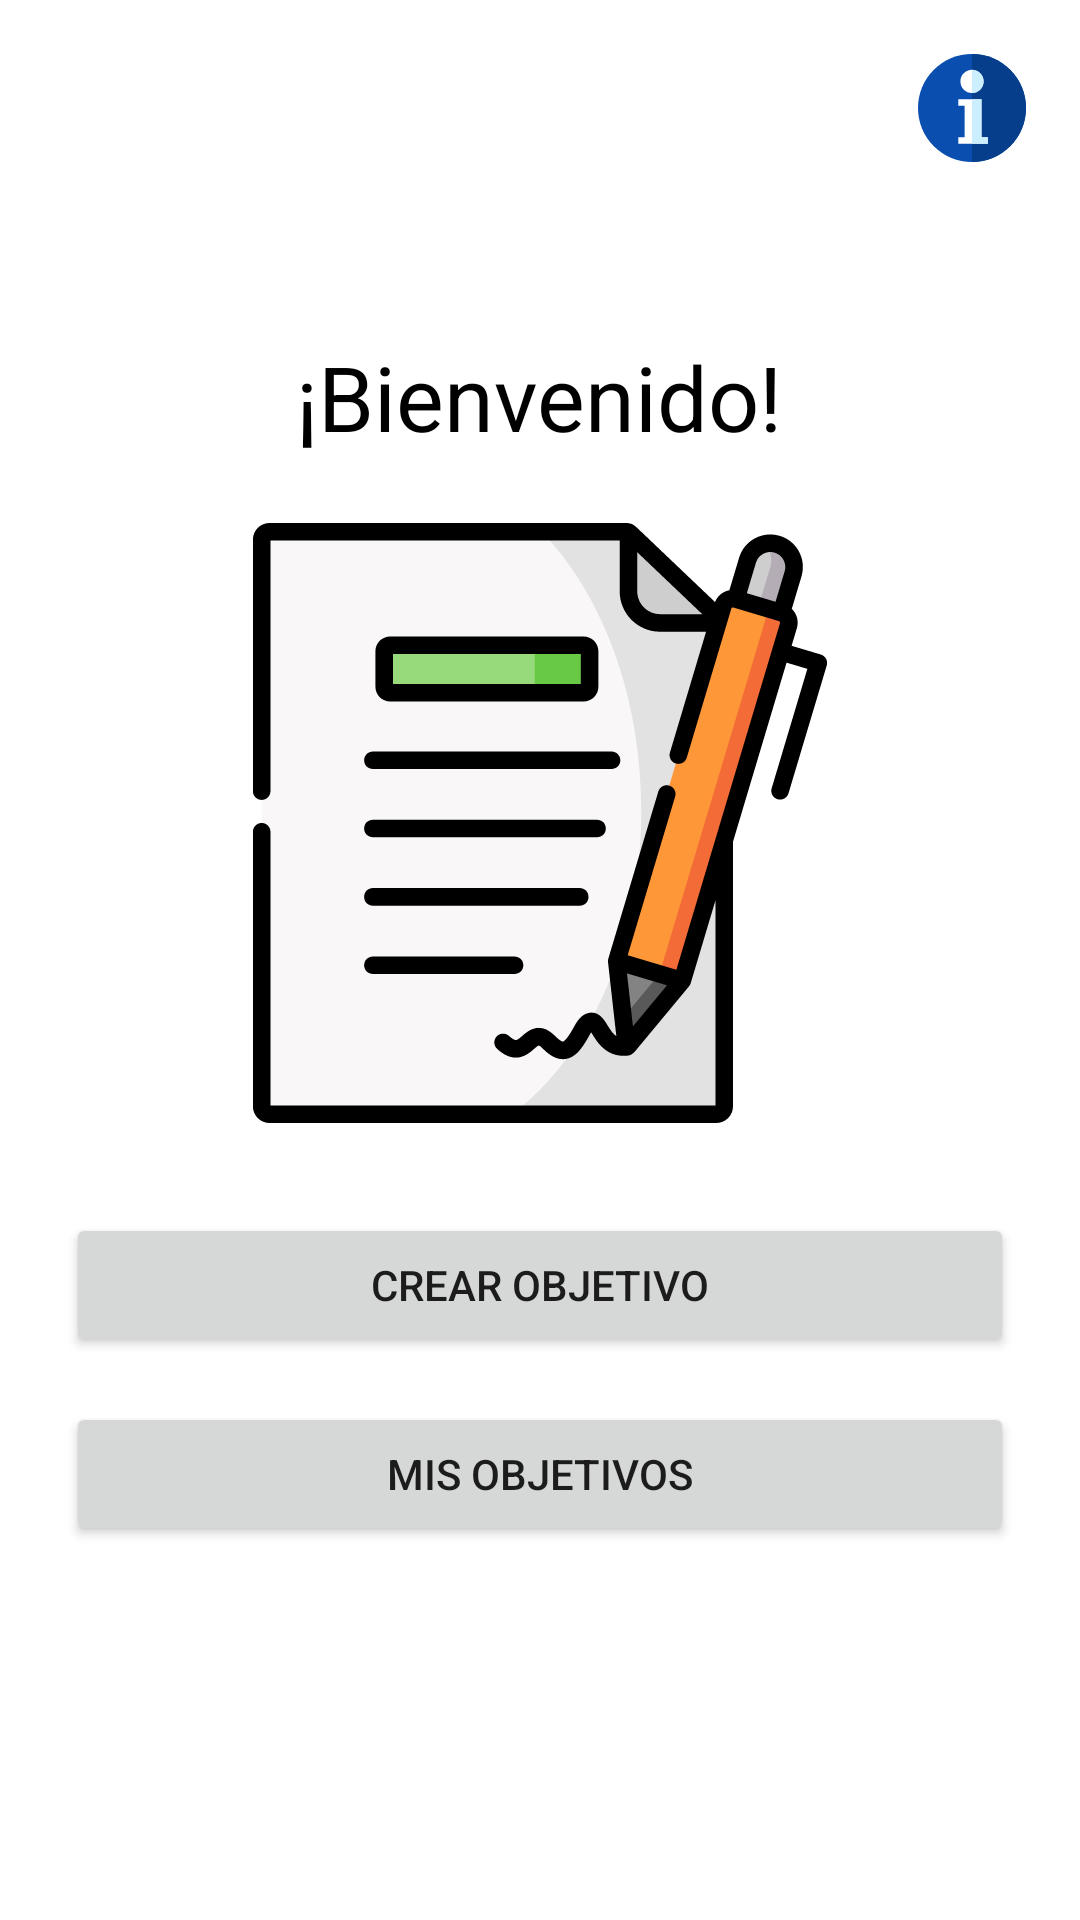

Icon bounding boxes for this 1080px×1920px phone screenshot, format box(x1, y1, x2, y2):
informacion: box(918, 54, 1026, 162)
